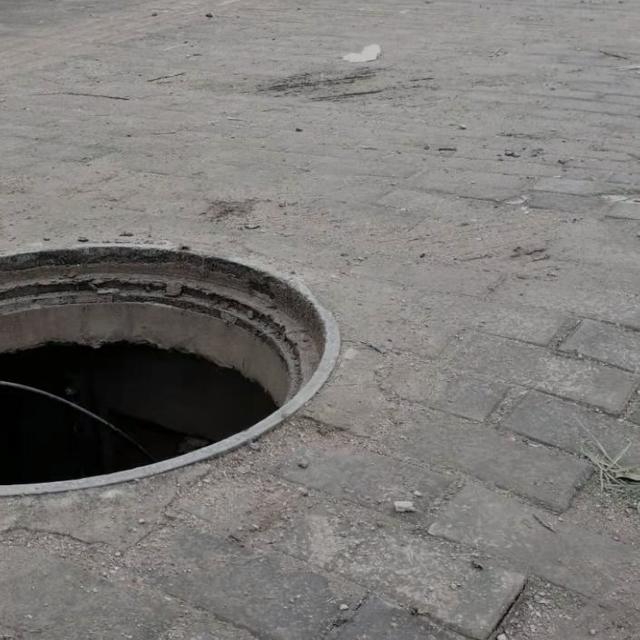lose: (0, 238, 342, 493)
